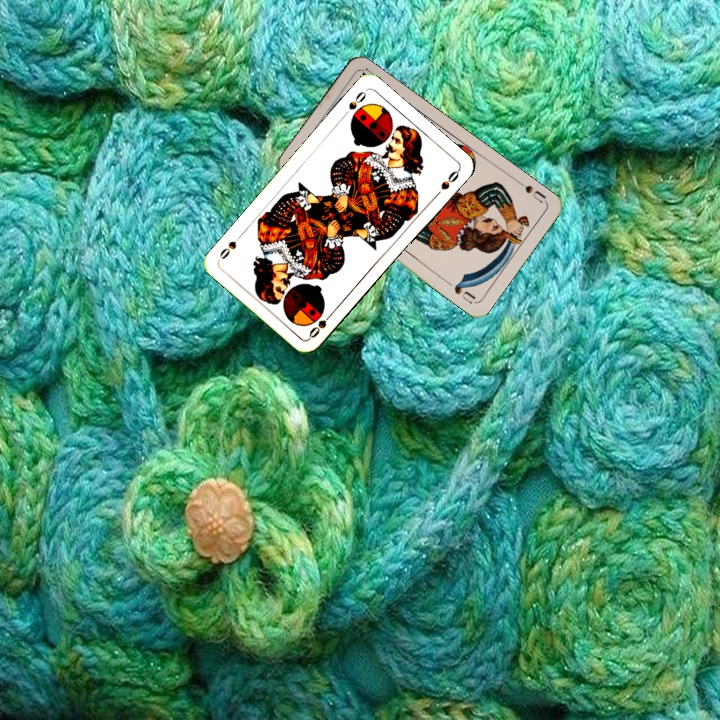SO: (305, 307, 337, 341), (338, 87, 369, 120)
SU: (513, 177, 548, 206)
